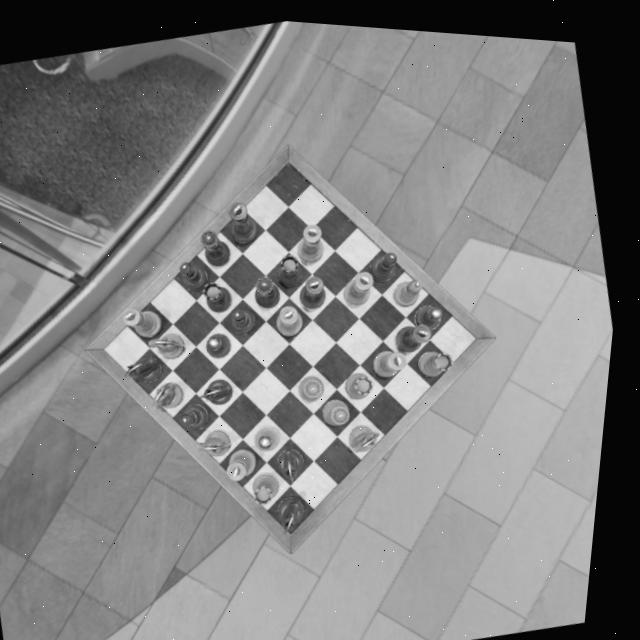chessboard: (111, 157, 486, 528)
